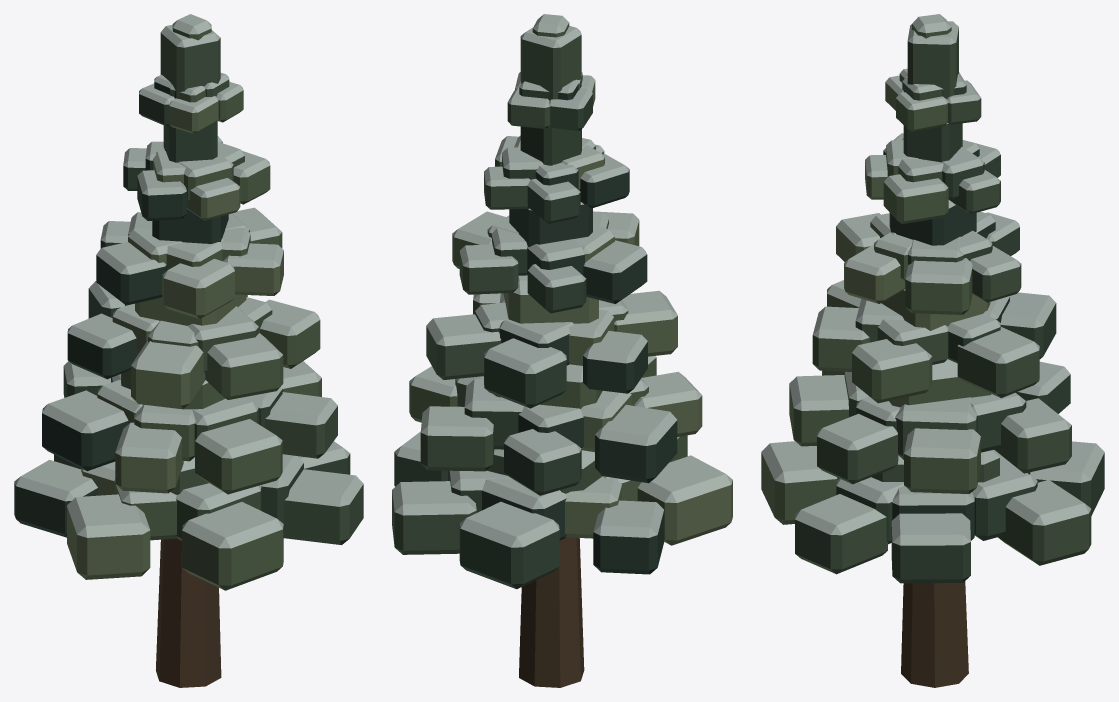
Rendered from pine_mature_winter_3.glb.
The picture shows the model from 3 angles, left to right: view 1: azimuth 30°, elevation 25°; view 2: azimuth 150°, elevation 25°; view 3: azimuth 270°, elevation 25°; orthographic projection.
Parts seen in each view (by area): view 1: pine_mature_winter_3; view 2: pine_mature_winter_3; view 3: pine_mature_winter_3.
Boxes of the visible parts, <box> form: pine_mature_winter_3: <box>14,14,363,687</box>; pine_mature_winter_3: <box>392,14,732,687</box>; pine_mature_winter_3: <box>761,14,1104,687</box>.
Size of the model in its own units: 9.28 by 20 by 9.5.
